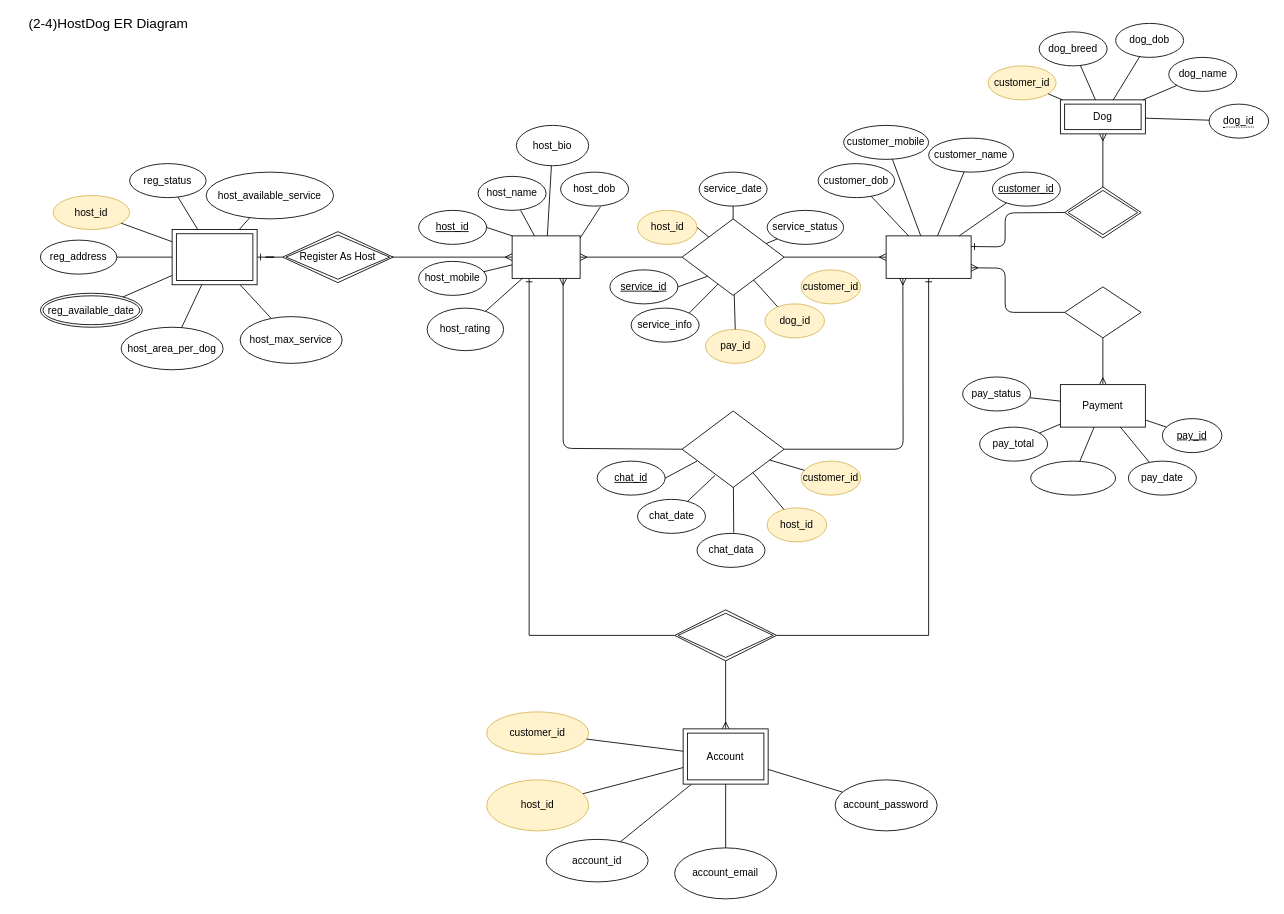
Image size: 1284x914. Some labels were removed from this diagram. Each missing label, with the centre of its shape:
"Chat with" goes at point (732, 448).
"Customer" goes at point (928, 256).
"Dog Host" goes at point (732, 256).
"Has" goes at point (725, 635).
"Host" goes at point (545, 256).
"Host Registration Lists" goes at point (214, 257).
"Own" goes at point (1102, 212).
"Pay" goes at point (1102, 312).
"pay_bank_name" goes at point (1073, 477).
